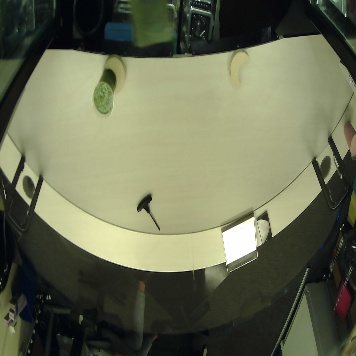full_cup: (92, 67, 119, 118), (340, 117, 356, 158)
puck: (226, 49, 254, 92), (101, 51, 129, 94)
